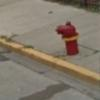a fire hydrant: (57, 22, 79, 55)
